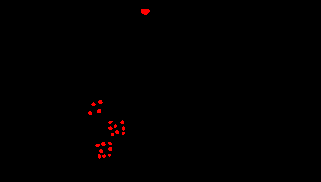Target: (141, 9, 150, 15), (98, 100, 103, 104), (91, 102, 96, 106), (108, 126, 113, 130), (101, 142, 106, 146), (97, 109, 101, 113), (88, 111, 92, 115), (120, 120, 124, 124), (115, 130, 119, 134), (108, 147, 112, 151), (99, 149, 103, 153), (102, 154, 106, 158), (108, 121, 113, 124), (122, 126, 125, 131), (95, 144, 100, 147), (98, 154, 101, 159), (114, 124, 117, 128), (108, 142, 112, 145), (122, 132, 125, 135), (111, 133, 114, 136), (108, 154, 111, 157)
